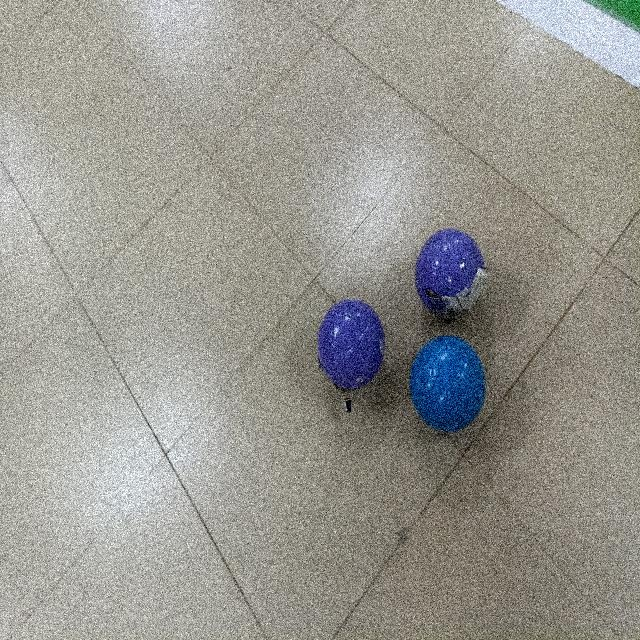blue_ball: (408, 331, 494, 447)
purple_ball: (414, 220, 490, 327), (312, 292, 392, 389)
